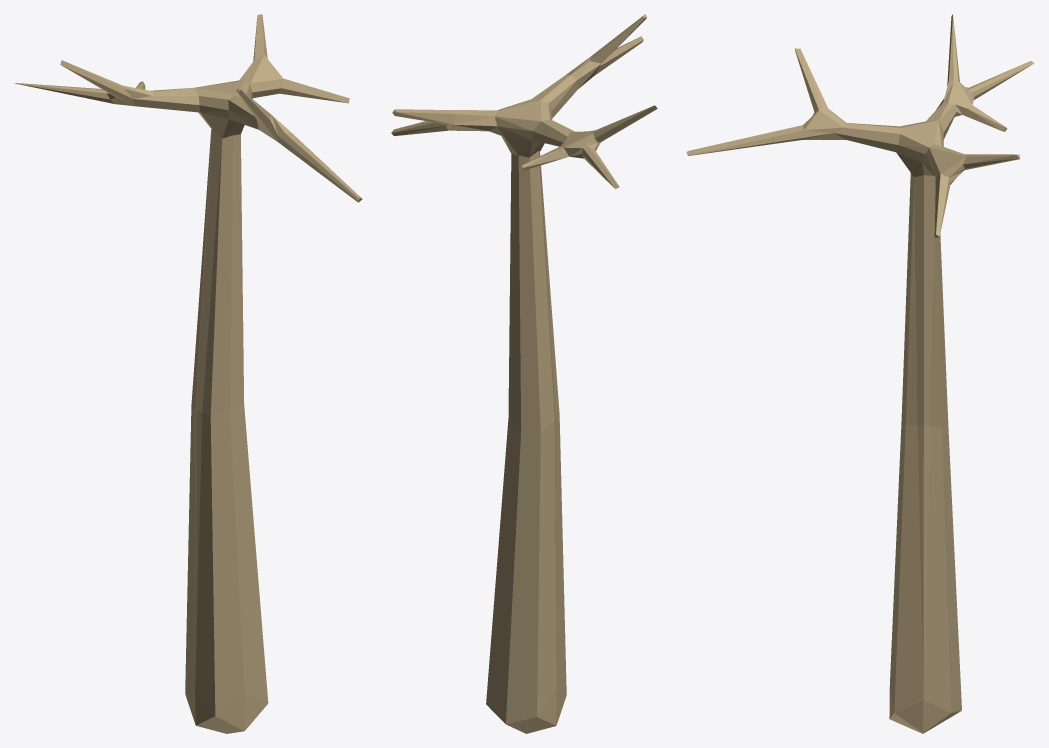
File: DesertTree_1 Withered.fbx
The picture shows the model from 3 angles, left to right: view 1: azimuth 30°, elevation 25°; view 2: azimuth 150°, elevation 25°; view 3: azimuth 270°, elevation 25°; orthographic projection. The views are drawn at different scales.
Parts seen in each view (by area): view 1: DeserttreeWithered_mesh; view 2: DeserttreeWithered_mesh; view 3: DeserttreeWithered_mesh.
Part boxes in pixels (box(x1,y1,x2,y2)): DeserttreeWithered_mesh: box(14, 14, 362, 733); DeserttreeWithered_mesh: box(391, 14, 657, 733); DeserttreeWithered_mesh: box(686, 14, 1034, 733).
Bounding box in the file's own units: 215 × 510 × 243.
